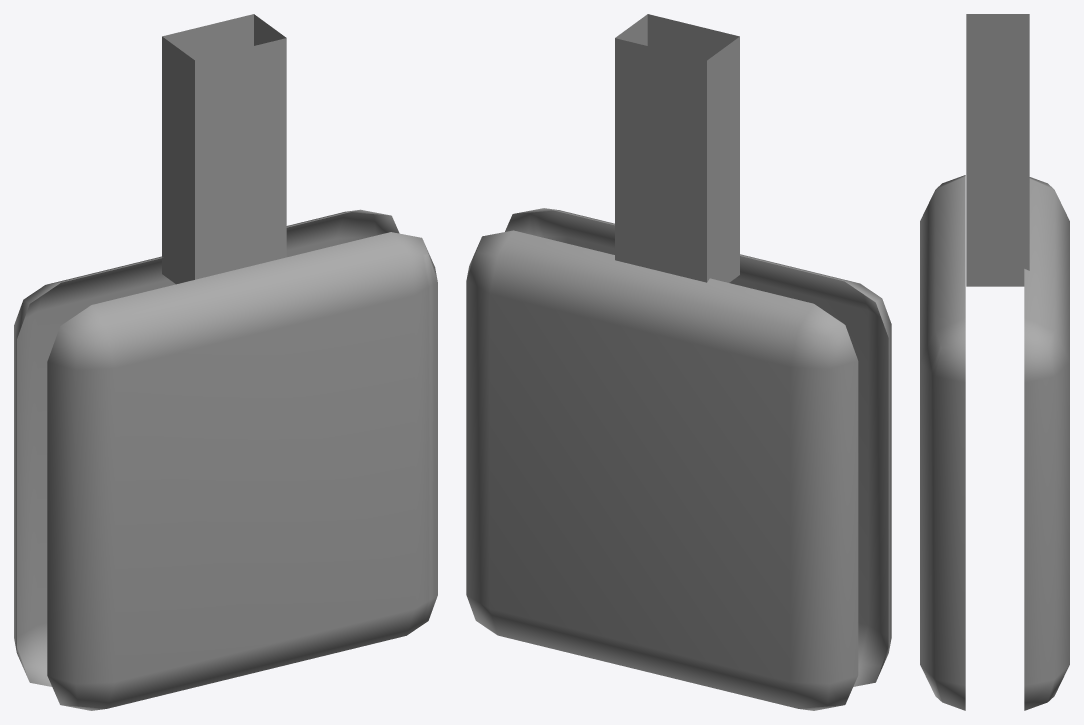
The model's file is ToasterLever_2_ToasterLever_2_1_GeomSubset_0.obj.
3 views of the same model, side by side, from view 1: azimuth 30°, elevation 25°; view 2: azimuth 150°, elevation 25°; view 3: azimuth 270°, elevation 25° (orthographic). The views are drawn at different scales.
Parts seen in each view (by area): view 1: ToasterLever_2_ToasterLever_2_1_GeomSubset_0; view 2: ToasterLever_2_ToasterLever_2_1_GeomSubset_0; view 3: ToasterLever_2_ToasterLever_2_1_GeomSubset_0.
Boxes of the visible parts, <box> form: ToasterLever_2_ToasterLever_2_1_GeomSubset_0: <box>14,14,437,710</box>; ToasterLever_2_ToasterLever_2_1_GeomSubset_0: <box>466,14,891,710</box>; ToasterLever_2_ToasterLever_2_1_GeomSubset_0: <box>920,14,1069,710</box>.
Size of the model in its own units: 0.0267 by 0.0411 by 0.00925.
